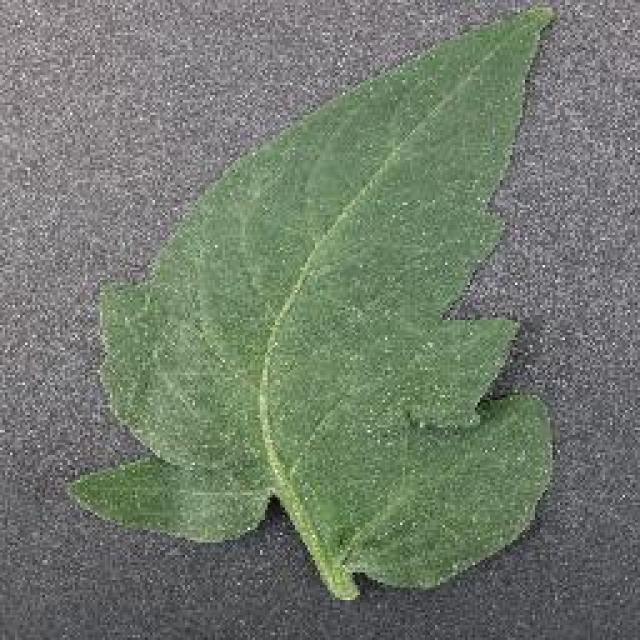Tomato healthy leaf: (85, 12, 550, 612)
